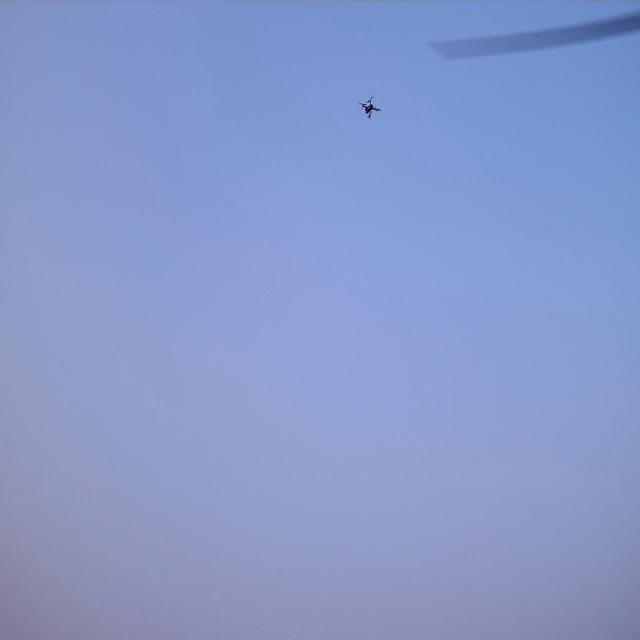UAV: (362, 98, 379, 118)
